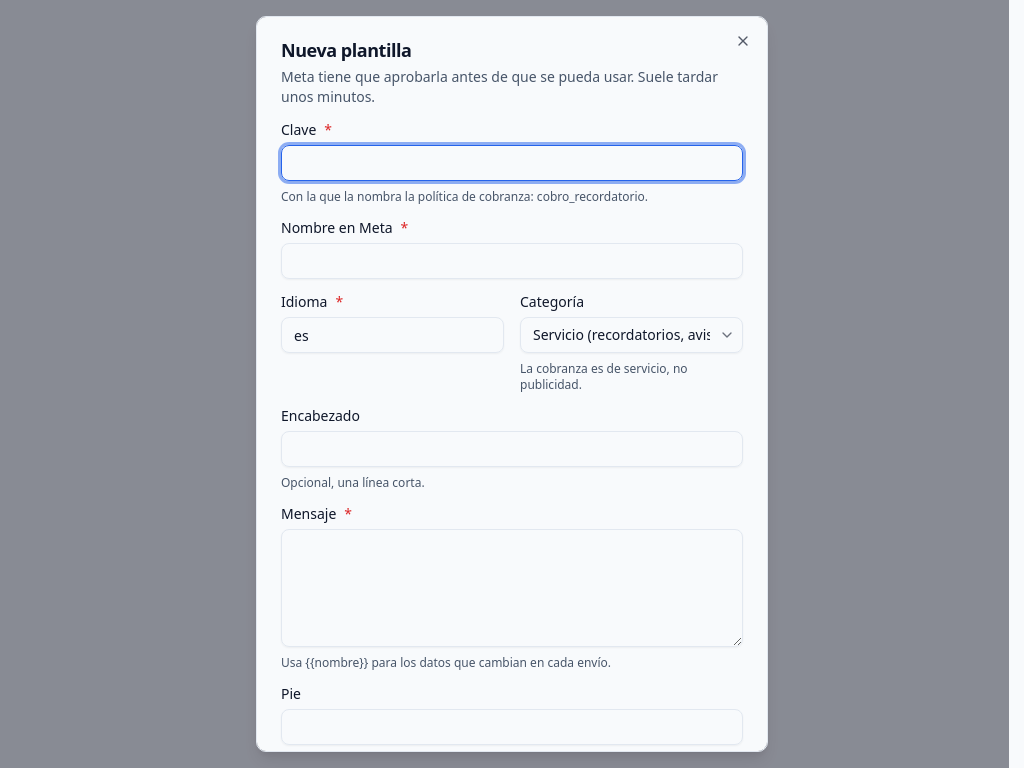
Test: los campos de ejemplo aparecen con las variables que se escriben
Click the text box labelled "Mensaje *".
click(512, 588)  # box [281, 529, 743, 647]
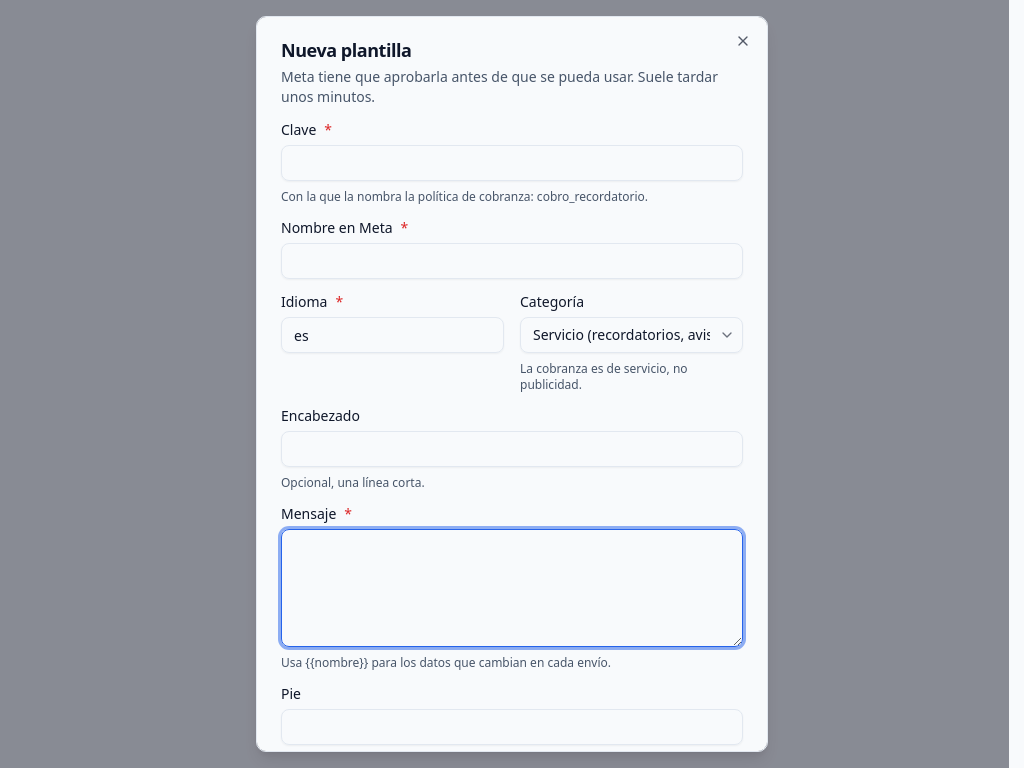
Type keys "Hola {{nombre}}, debes {{monto}}"
(page scrolled)
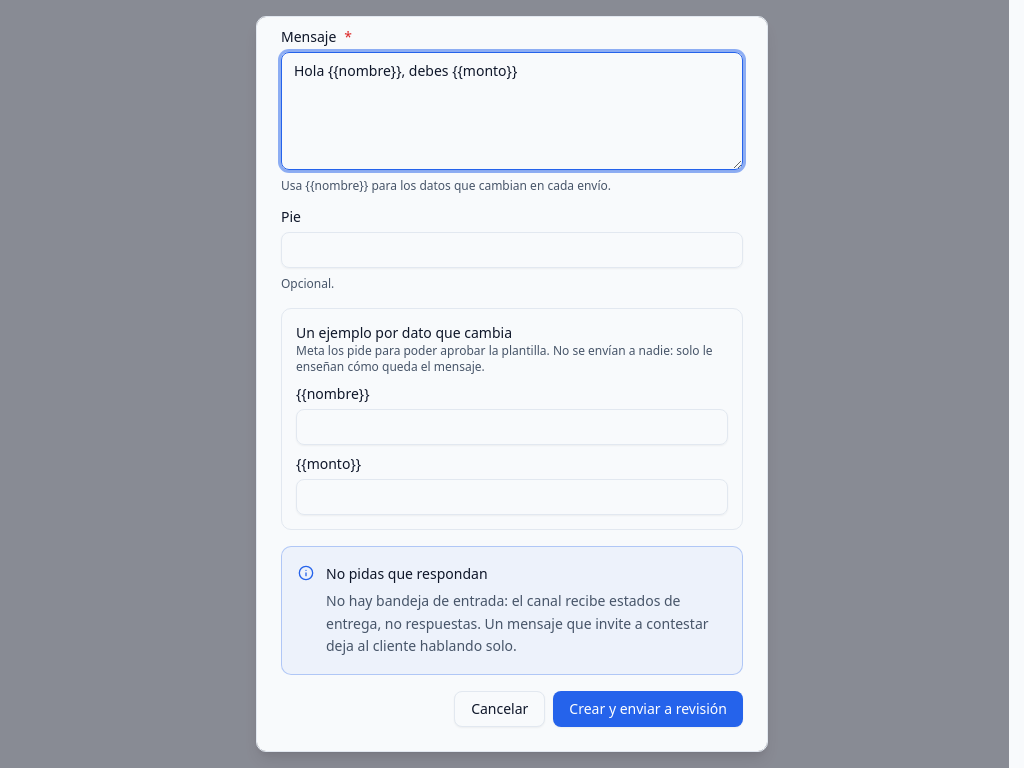
Expected: the text "{{nombre}}" is shown, [296, 387, 370, 401]
Expected: the text "{{monto}}" is shown, [296, 457, 361, 471]
